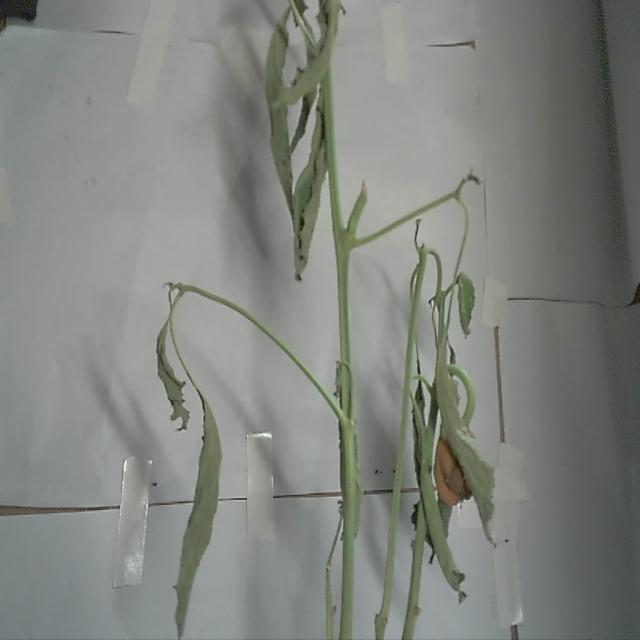Leaf: (435, 315, 498, 552), (170, 386, 221, 638), (263, 12, 301, 235), (290, 81, 330, 282), (155, 290, 190, 429)
